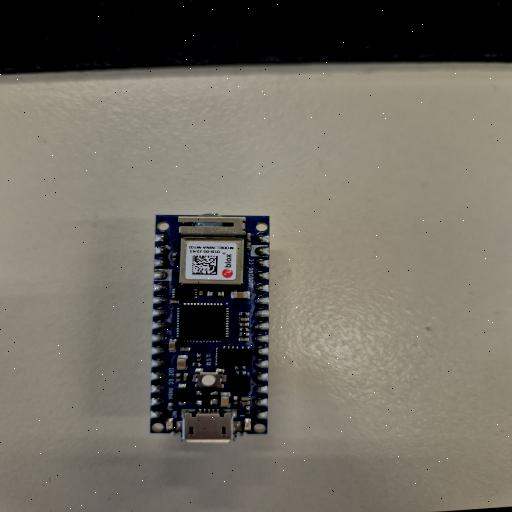arduino-nano-iot-33: (154, 212, 270, 438)
